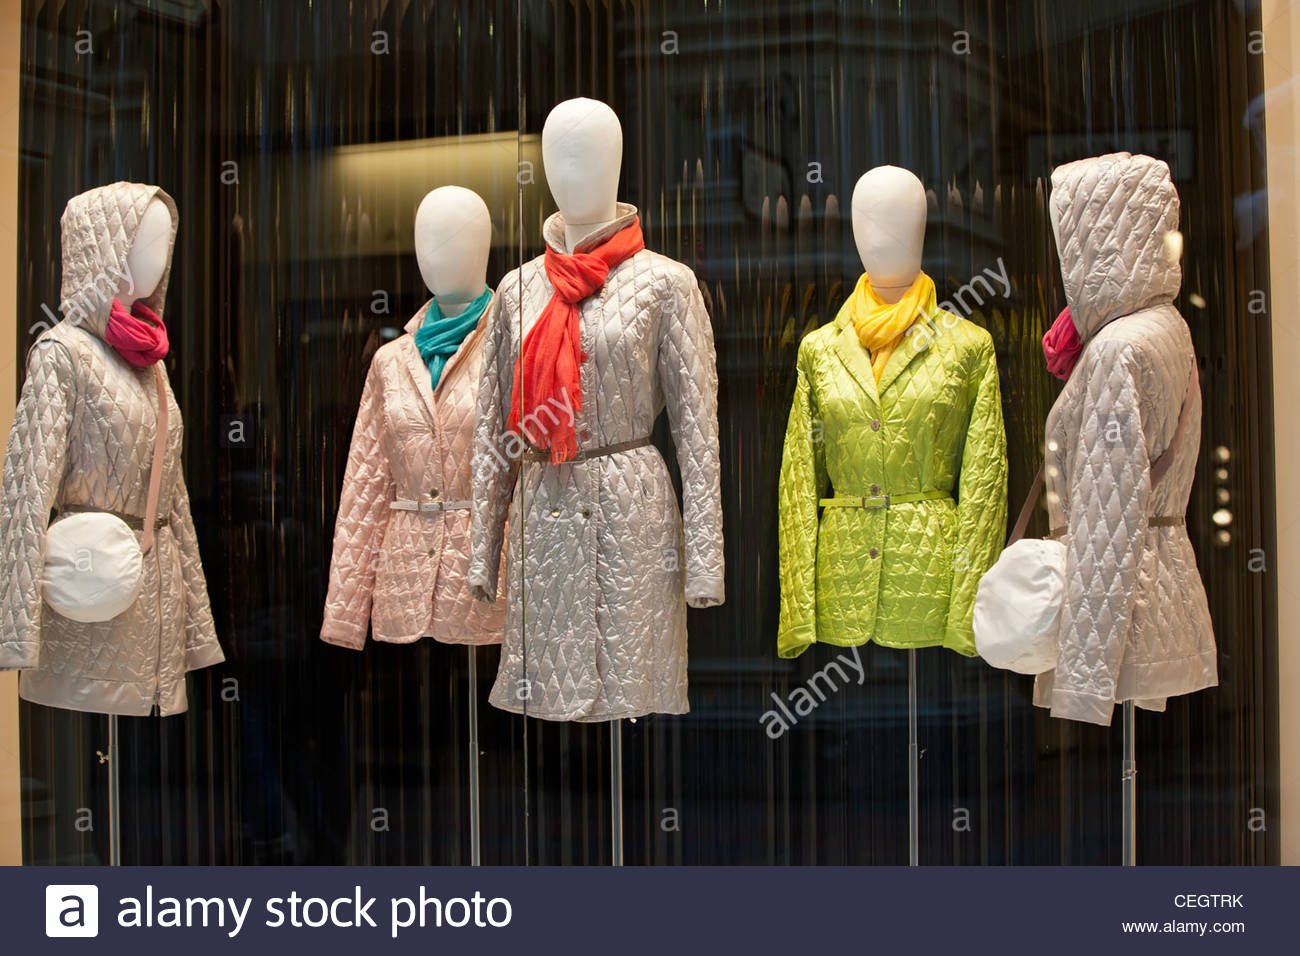person-like: (460, 73, 737, 736), (3, 169, 236, 730), (773, 152, 1013, 673), (1018, 143, 1229, 736), (306, 179, 536, 661)
